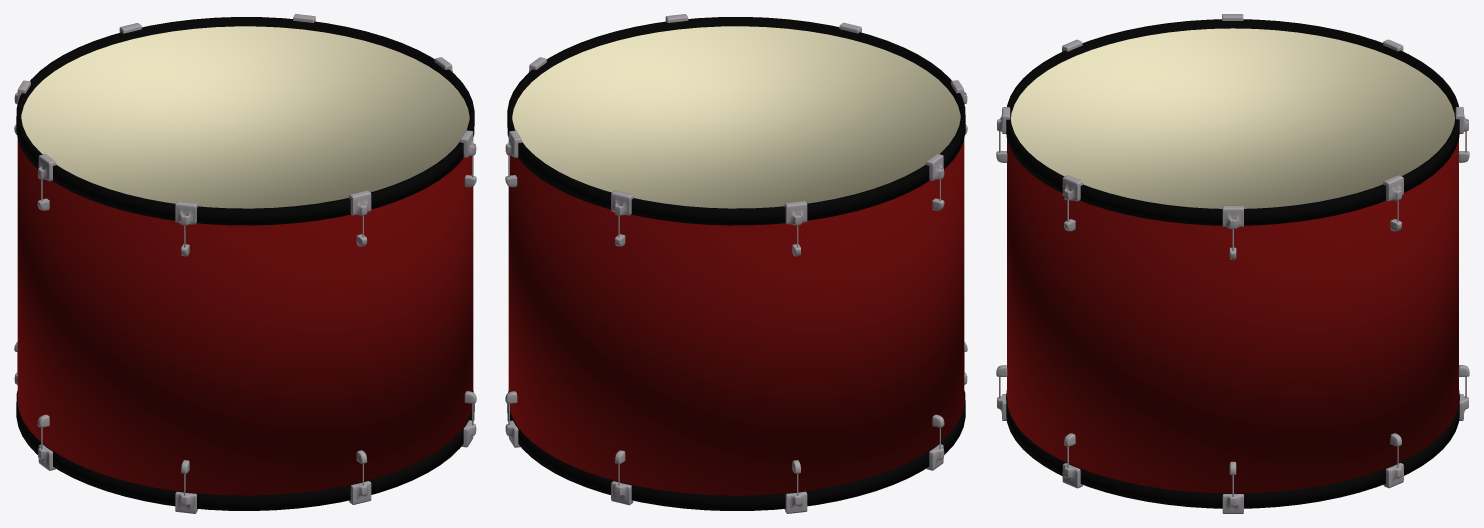
File: drum.fbx
The picture shows the model from 3 angles, left to right: view 1: azimuth 30°, elevation 25°; view 2: azimuth 150°, elevation 25°; view 3: azimuth 270°, elevation 25°; orthographic projection.
Visible parts, largest first — view 1: Cylinder; view 2: Cylinder; view 3: Cylinder.
Boxes of the visible parts, bbox=[...] form: Cylinder: bbox=[14, 14, 476, 513]; Cylinder: bbox=[505, 14, 967, 513]; Cylinder: bbox=[996, 14, 1469, 513].
Size of the model in its own units: 57.6 by 41.03 by 57.6.
